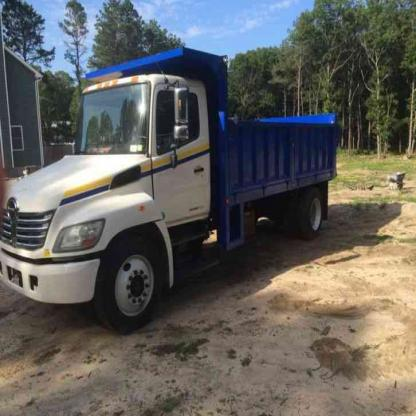dump_truck: (5, 35, 355, 332)
